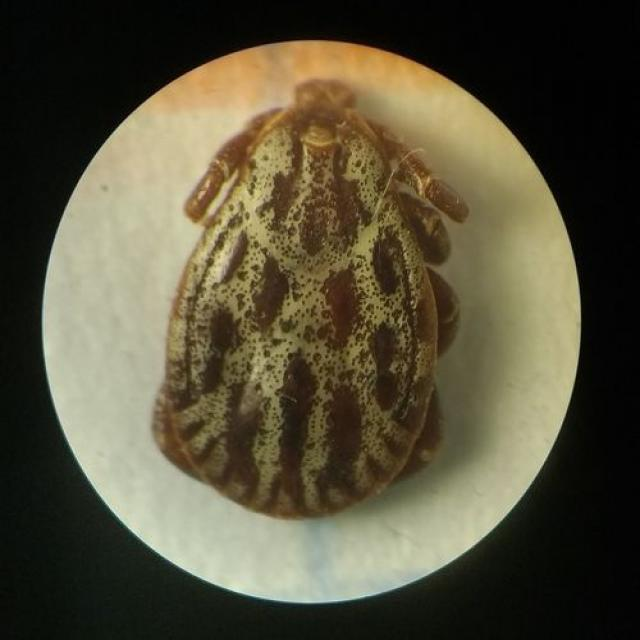Dermacentor Reticulatus-M: (154, 79, 470, 518)
